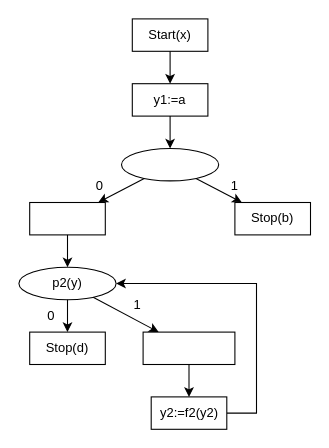
Image size: 329x448. Some labels were removed from this diagram. The shapes that lost their labels are listed below. From the top down, each one's centre as x and y in pixels, then its label:
At (x=169, y=164): "p1(x, y1)".
At (x=67, y=218): "y2:=c".
At (x=188, y=347): "y1:=f1(y1, y2)".
